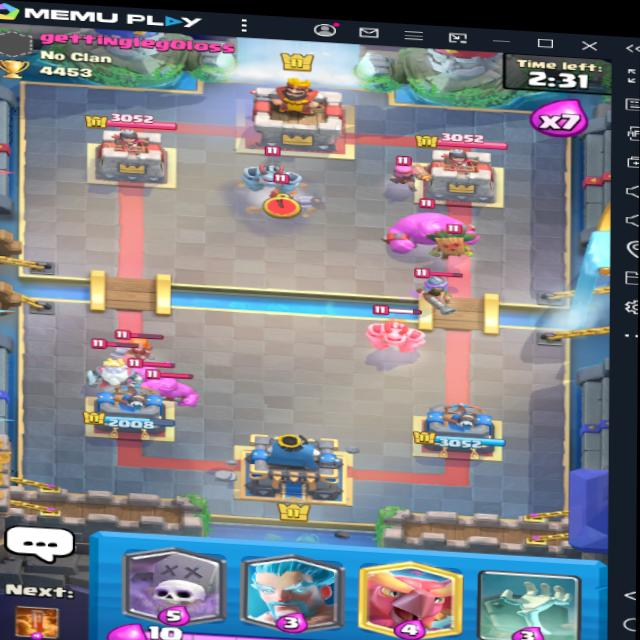dart-goblin: (430, 228, 486, 259)
electro-golem: (389, 208, 484, 255), (137, 368, 201, 405), (123, 359, 169, 392)
firecracker: (375, 155, 438, 197)
mega-minion: (368, 306, 423, 360), (242, 161, 299, 198)
musketeer: (413, 264, 473, 308)
royal-ghost: (73, 351, 142, 387)
valkyrie: (261, 179, 315, 213), (117, 328, 168, 361)
